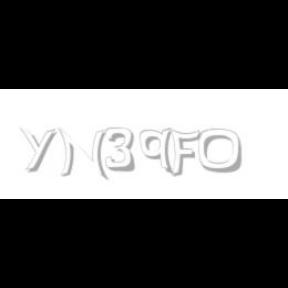3: (106, 128, 136, 172)
F: (169, 128, 201, 178)
N: (57, 128, 106, 180)
O: (198, 128, 242, 174)
q: (139, 128, 175, 176)
y: (20, 128, 60, 172)
